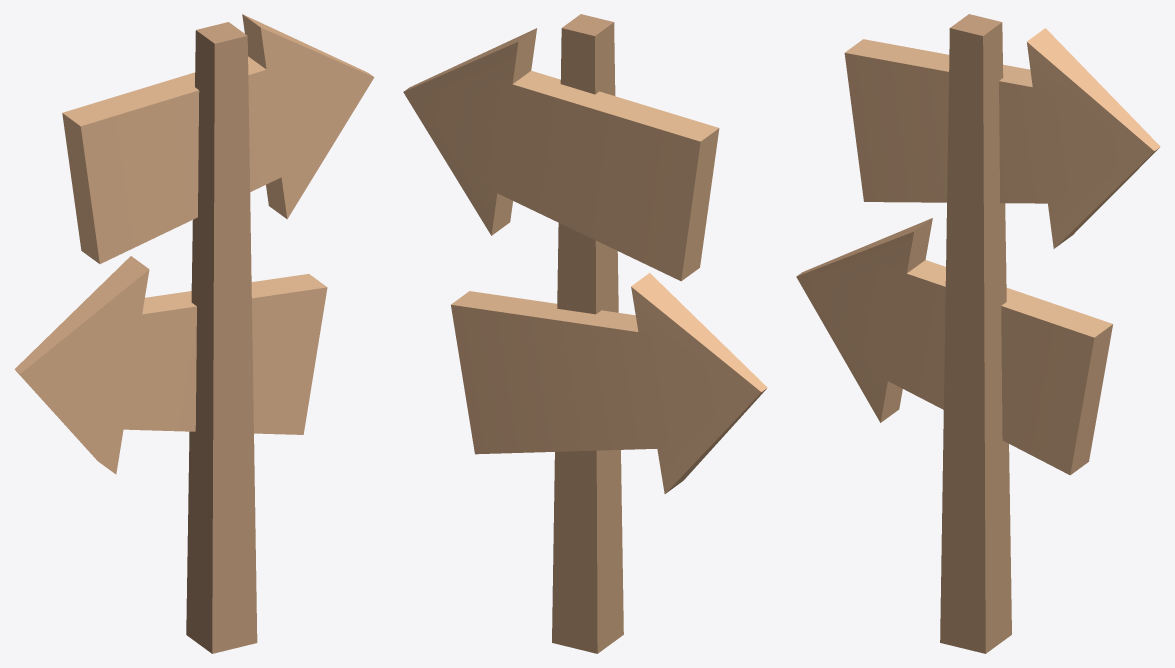
The model's file is arrows.glb.
3 views of the same model, side by side, from view 1: azimuth 30°, elevation 25°; view 2: azimuth 150°, elevation 25°; view 3: azimuth 330°, elevation 25° (orthographic).
Parts seen in each view (by area): view 1: arrows; view 2: arrows; view 3: arrows.
Boxes of the visible parts, x1,y1,x2,y2 form: arrows: (14,14,374,653); arrows: (403,14,767,653); arrows: (796,14,1160,653).
Size of the model in its own units: 0.55 by 0.9 by 0.0998.
